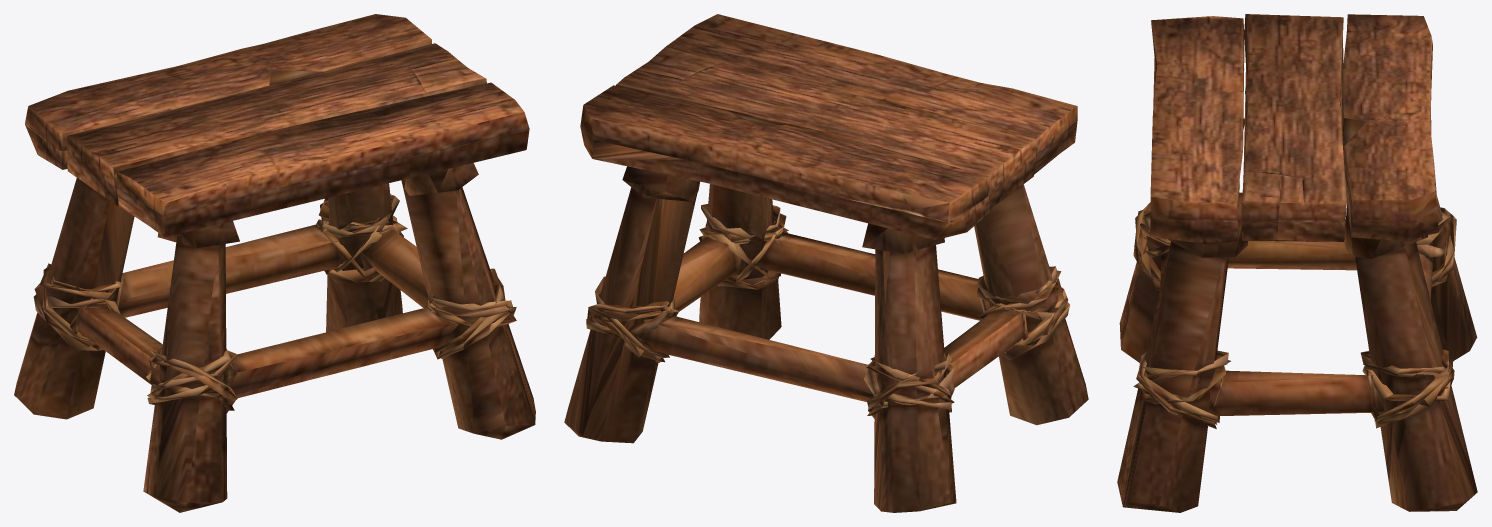
Rendered from bench.glb.
3 views of the same model, side by side, from view 1: azimuth 30°, elevation 25°; view 2: azimuth 150°, elevation 25°; view 3: azimuth 270°, elevation 25° (orthographic). The views are drawn at different scales.
Parts seen in each view (by area): view 1: bench; view 2: bench; view 3: bench.
Boxes of the visible parts, left/top/right/bottom form: bench: left=14, top=14, right=535, bottom=512; bench: left=564, top=14, right=1088, bottom=512; bench: left=1117, top=14, right=1477, bottom=512.
Bounding box in the file's own units: 0.9714 × 0.7583 × 0.7639.
1 material, 1 textured.
